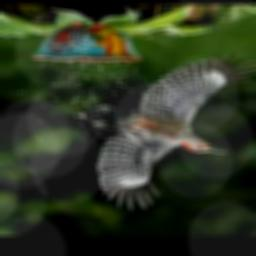Woodpecker: (84, 57, 256, 210)
